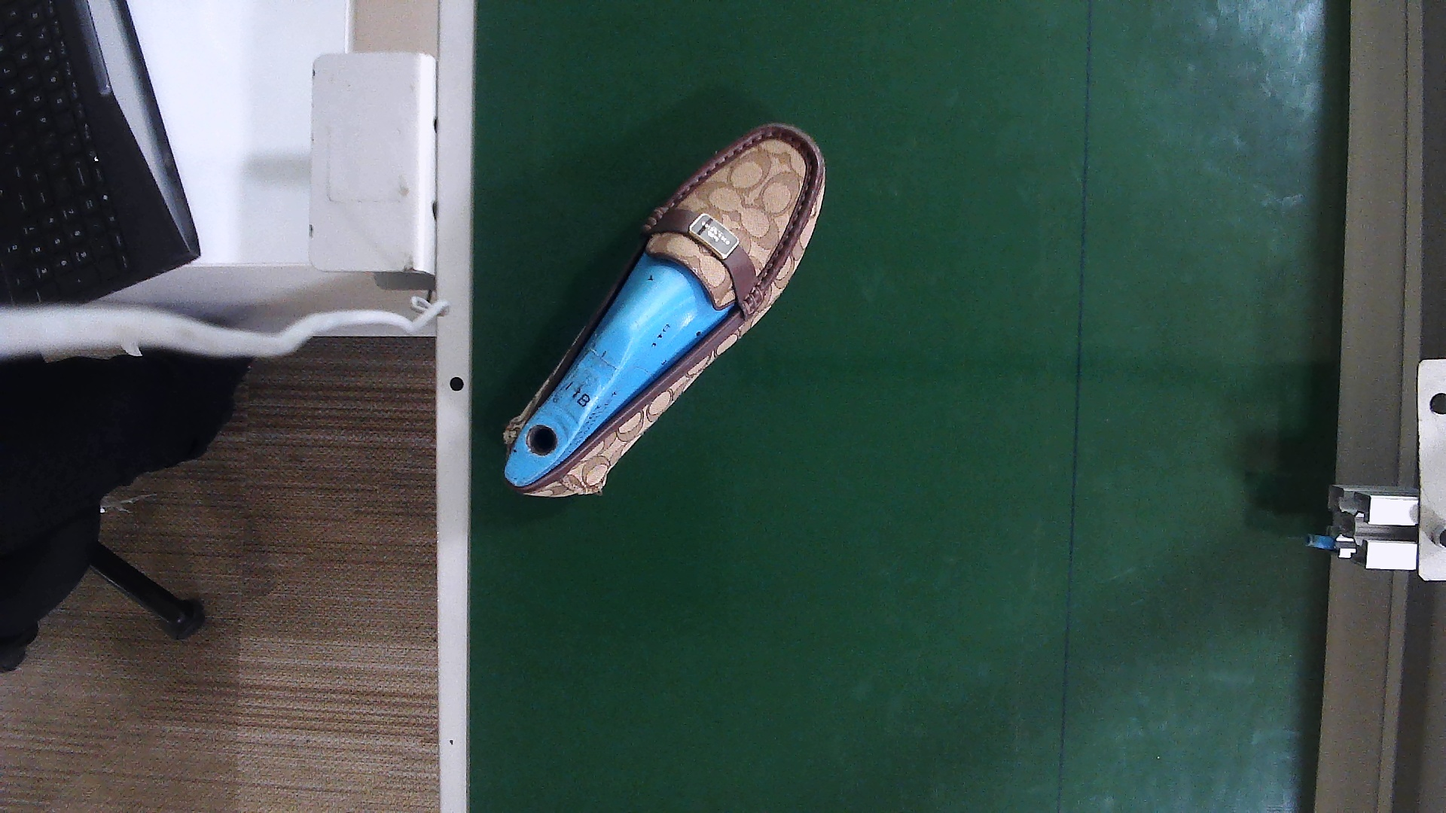shoe: (503, 126, 825, 497)
